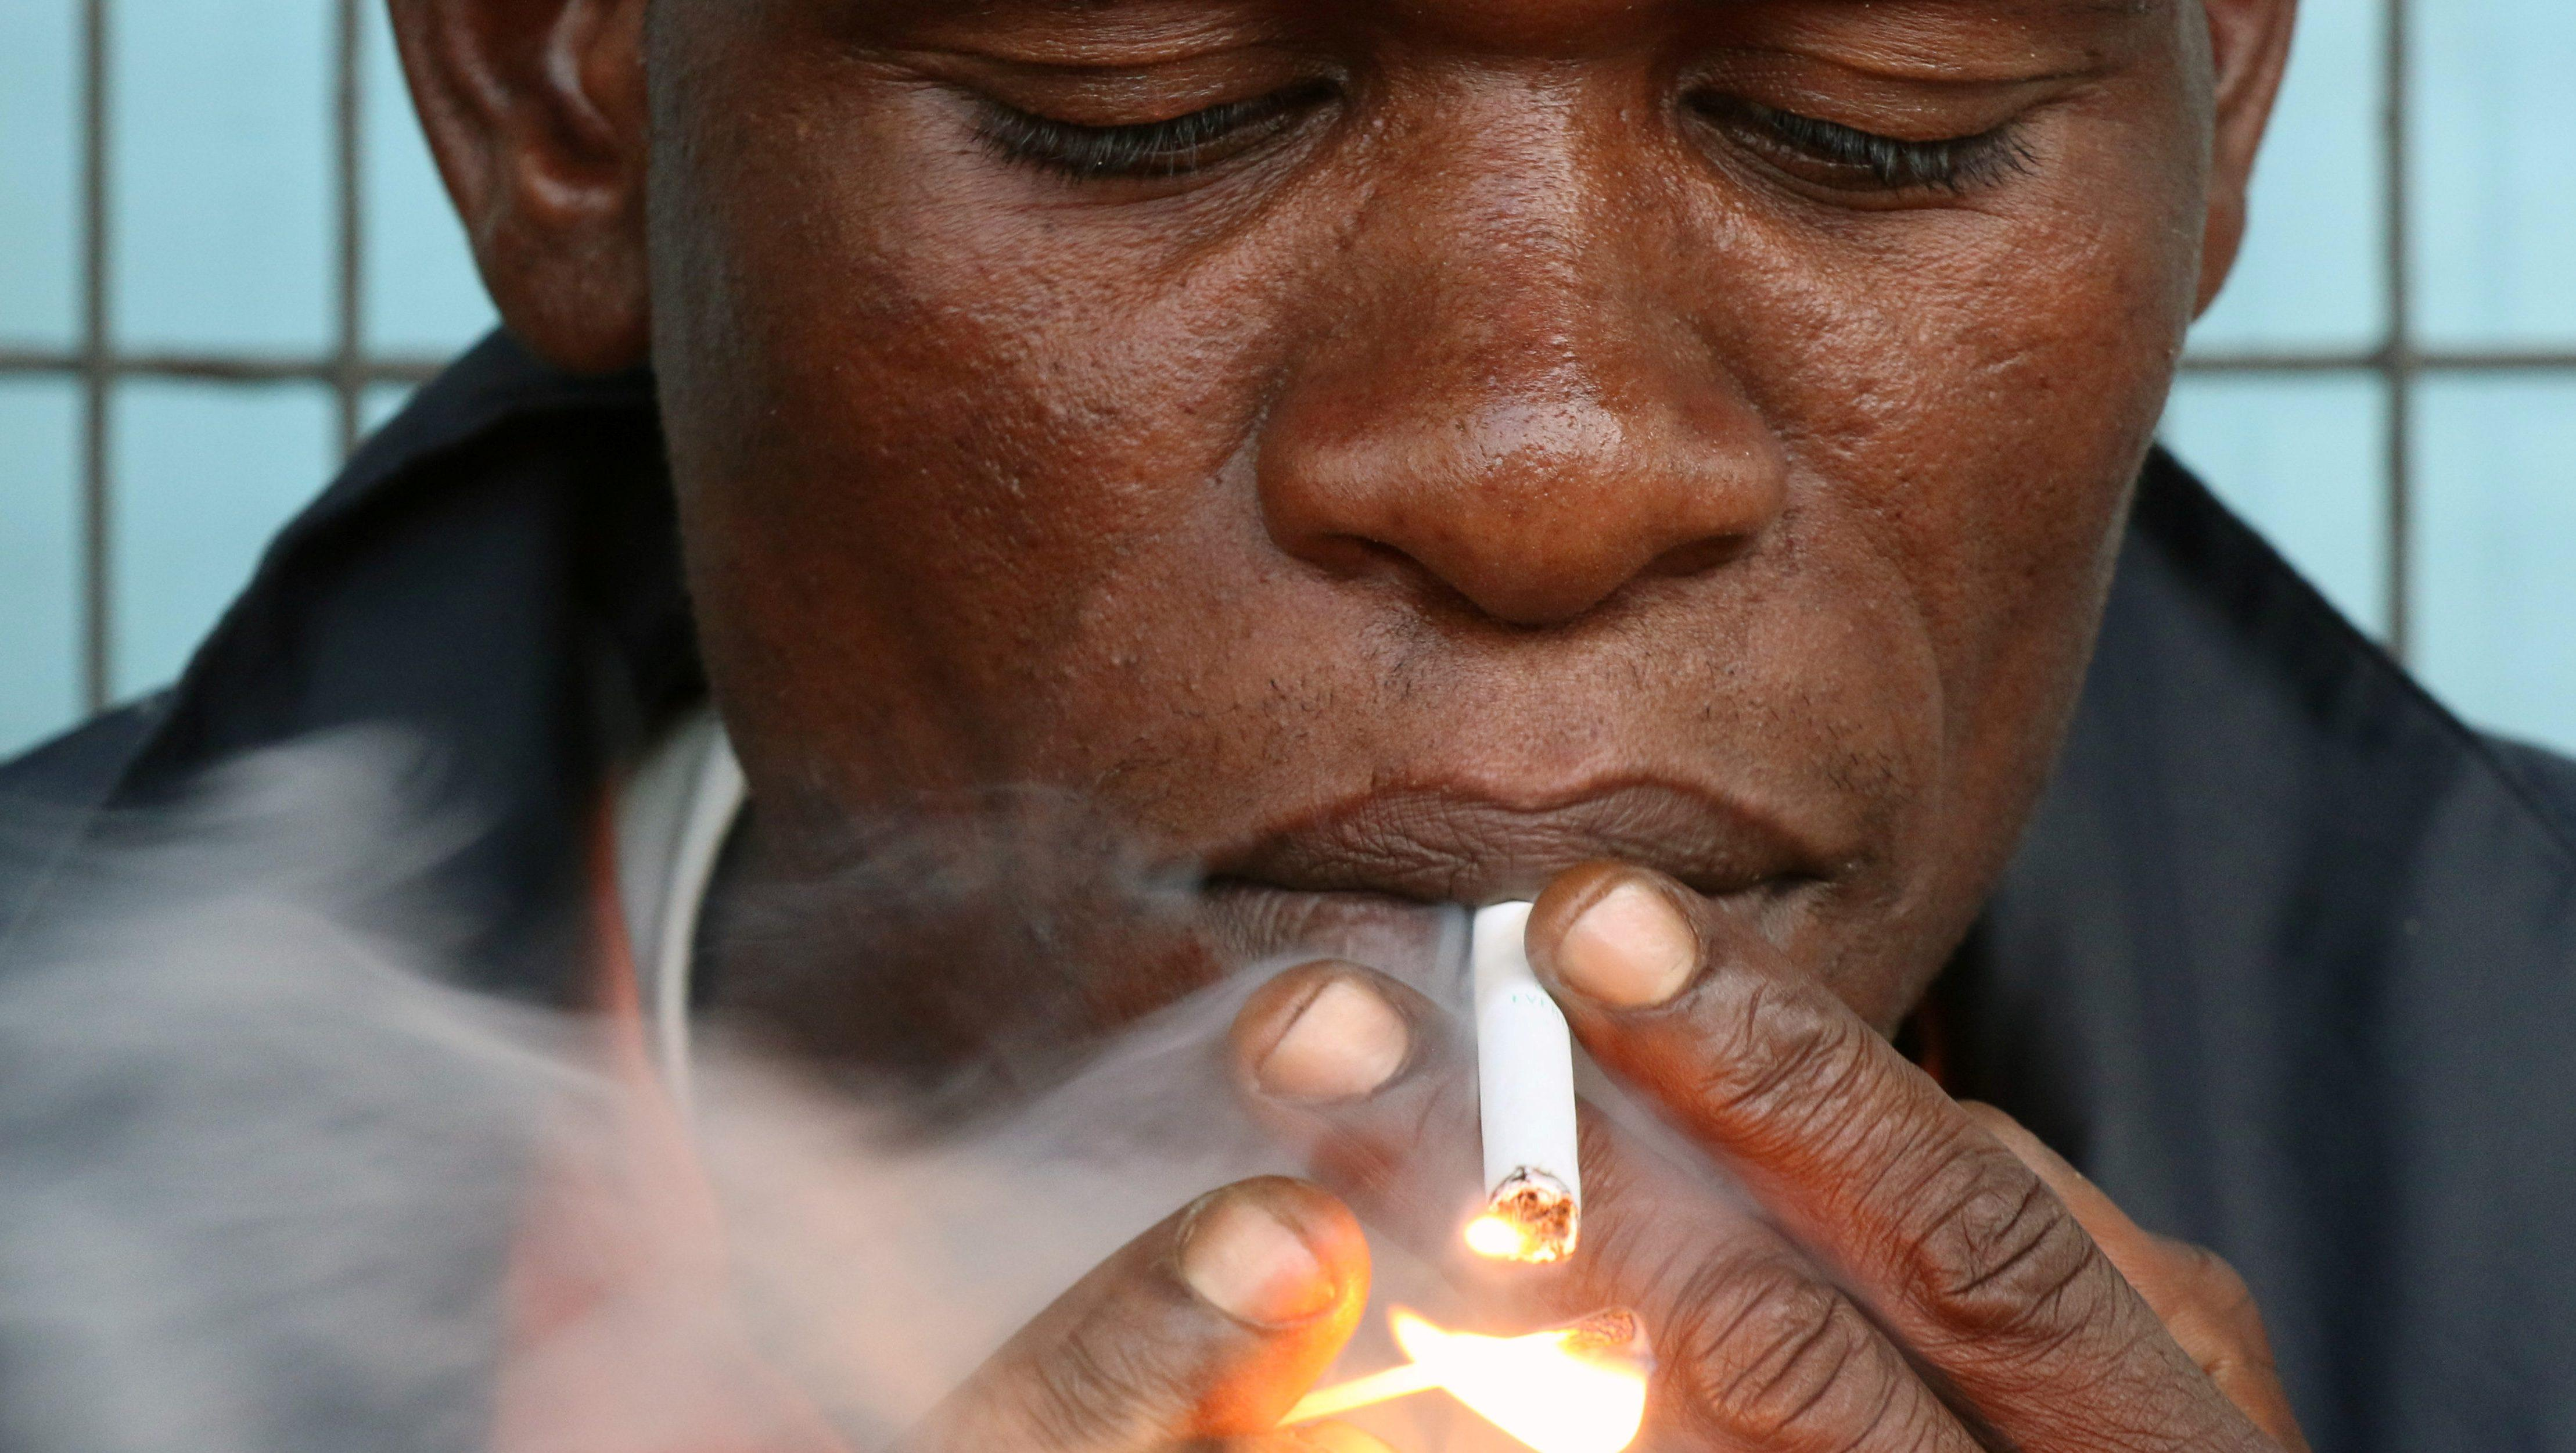smoke: (1468, 855, 1591, 1258)
